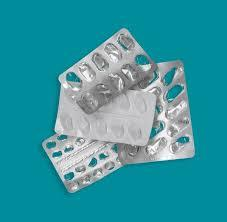pill_Strip: (43, 61, 194, 191), (59, 28, 156, 113), (119, 61, 194, 163), (55, 87, 155, 145), (42, 134, 121, 192)
